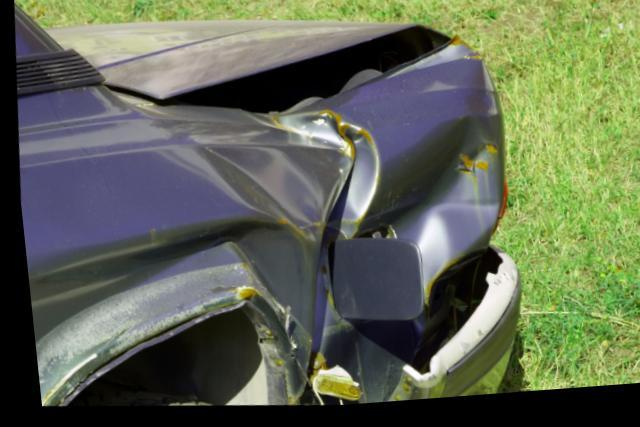dent: (200, 115, 500, 364)
dislocated part: (296, 251, 516, 409)
